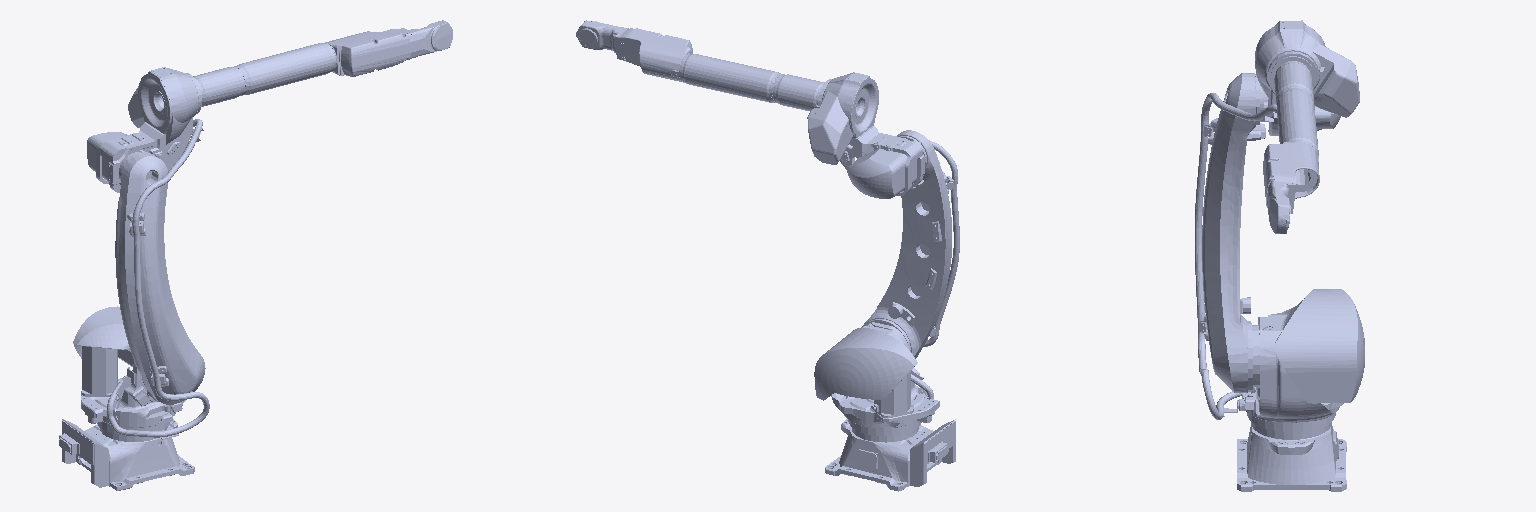
URDF robot description (as1):
<?xml version="1.0" encoding="utf-8"?>
<!-- This URDF was automatically created by SolidWorks to URDF Exporter! Originally created by [author] ([email redacted]) 
     Commit Version: 1.6.0-4-g7f85cfe  Build Version: 1.6.7995.38578
     For more information, please see http://wiki.ros.org/sw_urdf_exporter -->
<robot
  name="as1">
  <link
    name="base_link">
    <inertial>
      <origin
        xyz="-0.0233673684020749 0.00375946264305613 -0.105963322965588"
        rpy="0 0 0" />
      <mass
        value="5.21419137667796" />
      <inertia
        ixx="0.0598529347517588"
        ixy="0.00107694936404555"
        ixz="0.00436850451811629"
        iyy="0.0817267703320559"
        iyz="0.000263568538641487"
        izz="0.1120238626061" />
    </inertial>
    <visual>
      <origin
        xyz="0 0 0"
        rpy="0 0 0" />
      <geometry>
        <mesh
          filename="package://as1/meshes/base_link.STL" />
      </geometry>
      <material
        name="">
        <color
          rgba="0.792156862745098 0.819607843137255 0.933333333333333 1" />
      </material>
    </visual>
    <collision>
      <origin
        xyz="0 0 0"
        rpy="0 0 0" />
      <geometry>
        <mesh
          filename="package://as1/meshes/base_link.STL" />
      </geometry>
    </collision>
  </link>
  <link
    name="link_1">
    <inertial>
      <origin
        xyz="0.0104492747595369 0.0238190656714165 0.126003219412791"
        rpy="0 0 0" />
      <mass
        value="18.9644281612299" />
      <inertia
        ixx="0.334615058691766"
        ixy="0.0272075098638983"
        ixz="-0.0126072885949166"
        iyy="0.345495178002126"
        iyz="-0.0410445221132301"
        izz="0.30546212847528" />
    </inertial>
    <visual>
      <origin
        xyz="0 0 0"
        rpy="0 0 0" />
      <geometry>
        <mesh
          filename="package://as1/meshes/link_1.STL" />
      </geometry>
      <material
        name="">
        <color
          rgba="0.792156862745098 0.819607843137255 0.933333333333333 1" />
      </material>
    </visual>
    <collision>
      <origin
        xyz="0 0 0"
        rpy="0 0 0" />
      <geometry>
        <mesh
          filename="package://as1/meshes/link_1.STL" />
      </geometry>
    </collision>
  </link>
  <joint
    name="joint1"
    type="revolute">
    <origin
      xyz="0 0 0"
      rpy="0 0 0" />
    <parent
      link="base_link" />
    <child
      link="link_1" />
    <axis
      xyz="0 0 -1" />
    <limit
      lower="-3.1416"
      upper="3.1416"
      effort="100"
      velocity="2" />
  </joint>
  <link
    name="link_2">
    <inertial>
      <origin
        xyz="-0.0923614117299397 -0.0808864455716424 0.344791779973973"
        rpy="0 0 0" />
      <mass
        value="20.7425365417751" />
      <inertia
        ixx="1.87563964620917"
        ixy="-0.0179379854284755"
        ixz="0.290357094787437"
        iyy="1.96341576264713"
        iyz="-0.0268209589565669"
        izz="0.169078492834354" />
    </inertial>
    <visual>
      <origin
        xyz="0 0 0"
        rpy="0 0 0" />
      <geometry>
        <mesh
          filename="package://as1/meshes/link_2.STL" />
      </geometry>
      <material
        name="">
        <color
          rgba="0.792156862745098 0.819607843137255 0.933333333333333 1" />
      </material>
    </visual>
    <collision>
      <origin
        xyz="0 0 0"
        rpy="0 0 0" />
      <geometry>
        <mesh
          filename="package://as1/meshes/link_2.STL" />
      </geometry>
    </collision>
  </link>
  <joint
    name="joint2"
    type="revolute">
    <origin
      xyz="0.078984 -0.10635 0.21973"
      rpy="0 0 0" />
    <parent
      link="link_1" />
    <child
      link="link_2" />
    <axis
      xyz="0 -1 0" />
    <limit
      lower="-1.5708"
      upper="1.5708"
      effort="100"
      velocity="2" />
  </joint>
  <link
    name="link_3">
    <inertial>
      <origin
        xyz="0.136575788044544 0.117268659899779 0.113378625216662"
        rpy="0 0 0" />
      <mass
        value="13.4512374849002" />
      <inertia
        ixx="0.224055463288954"
        ixy="-0.0121850892901722"
        ixz="-0.0956286765812692"
        iyy="0.275927612709498"
        iyz="-0.00527745613866116"
        izz="0.215613728805979" />
    </inertial>
    <visual>
      <origin
        xyz="0 0 0"
        rpy="0 0 0" />
      <geometry>
        <mesh
          filename="package://as1/meshes/link_3.STL" />
      </geometry>
      <material
        name="">
        <color
          rgba="0.792156862745098 0.819607843137255 0.933333333333333 1" />
      </material>
    </visual>
    <collision>
      <origin
        xyz="0 0 0"
        rpy="0 0 0" />
      <geometry>
        <mesh
          filename="package://as1/meshes/link_3.STL" />
      </geometry>
    </collision>
  </link>
  <joint
    name="joint3"
    type="revolute">
    <origin
      xyz="-0.11596 0.020379 0.83207"
      rpy="0 0 0" />
    <parent
      link="link_2" />
    <child
      link="link_3" />
    <axis
      xyz="0 -1 0" />
    <limit
      lower="-1.5708"
      upper="1.5708"
      effort="100"
      velocity="2" />
  </joint>
  <link
    name="link_4">
    <inertial>
      <origin
        xyz="0.501134425880994 -0.00428964990754252 0.00155670376564077"
        rpy="0 0 0" />
      <mass
        value="11.2572274332167" />
      <inertia
        ixx="0.0277470668766059"
        ixy="0.0505294926419451"
        ixz="-0.00742649894191705"
        iyy="0.935689886130332"
        iyz="0.000673138359578124"
        izz="0.941813414197717" />
    </inertial>
    <visual>
      <origin
        xyz="0 0 0"
        rpy="0 0 0" />
      <geometry>
        <mesh
          filename="package://as1/meshes/link_4.STL" />
      </geometry>
      <material
        name="">
        <color
          rgba="0.792156862745098 0.819607843137255 0.933333333333333 1" />
      </material>
    </visual>
    <collision>
      <origin
        xyz="0 0 0"
        rpy="0 0 0" />
      <geometry>
        <mesh
          filename="package://as1/meshes/link_4.STL" />
      </geometry>
    </collision>
  </link>
  <joint
    name="joint4"
    type="revolute">
    <origin
      xyz="0.29158 0.090386 0.21469"
      rpy="0 0 0" />
    <parent
      link="link_3" />
    <child
      link="link_4" />
    <axis
      xyz="1 0 0" />
    <limit
      lower="-3.1416"
      upper="3.1416"
      effort="100"
      velocity="2" />
  </joint>
  <link
    name="end_link">
    <inertial>
      <origin
        xyz="0.2259771378748 0.0624580233555173 0.0448242124362421"
        rpy="0 0 0" />
      <mass
        value="1.76534714271895" />
      <inertia
        ixx="0.00281408448832343"
        ixy="-0.000215380883179021"
        ixz="-7.8042969186613E-05"
        iyy="0.00298968198332777"
        iyz="-3.36562530876571E-05"
        izz="0.00266081663711982" />
    </inertial>
    <visual>
      <origin
        xyz="0 0 0"
        rpy="0 0 0" />
      <geometry>
        <mesh
          filename="package://as1/meshes/end_link.STL" />
      </geometry>
      <material
        name="">
        <color
          rgba="0.792156862745098 0.819607843137255 0.933333333333333 1" />
      </material>
    </visual>
    <collision>
      <origin
        xyz="0 0 0"
        rpy="0 0 0" />
      <geometry>
        <mesh
          filename="package://as1/meshes/end_link.STL" />
      </geometry>
    </collision>
  </link>
  <joint
    name="end_joint"
    type="revolute">
    <origin
      xyz="1.0455 -0.007287 0.0040489"
      rpy="0 0 0" />
    <parent
      link="link_4" />
    <child
      link="end_link" />
    <axis
      xyz="0 1 0" />
    <limit
      lower="-1.5708"
      upper="1.5708"
      effort="100"
      velocity="2" />
  </joint>
</robot>

--- Facts derived from the render (not from the file) ---
3 views of the same robot in one strip: view 1: azimuth 30°, elevation 25°; view 2: azimuth 150°, elevation 25°; view 3: azimuth 270°, elevation 25° (orthographic).
Model as1 with 6 links and 5 joints (5 revolute), rooted at base_link, posed every joint at zero.
Visible links, largest first — view 1: link_2, link_4, link_1, link_3, base_link; view 2: link_2, link_1, link_3, link_4, base_link; view 3: link_2, link_1, link_3, link_4, base_link.
Link boxes in pixels (box(x1,y1,x2,y2)): link_2: box(115, 152, 205, 404); link_4: box(193, 20, 452, 106); link_1: box(73, 306, 209, 441); link_3: box(87, 67, 203, 192); base_link: box(59, 388, 194, 490); link_2: box(862, 130, 959, 358); link_1: box(814, 322, 939, 442); link_3: box(807, 72, 924, 198); link_4: box(576, 20, 824, 110); base_link: box(825, 419, 955, 491); link_2: box(1195, 73, 1268, 392); link_1: box(1201, 289, 1364, 439); link_3: box(1212, 20, 1359, 135); link_4: box(1263, 61, 1319, 233); base_link: box(1237, 425, 1346, 491).
Bounding box of the posed robot: 1.63 × 0.5358 × 1.59 m (x, y, z).
Meshes: 6 distinct files referenced, 5 mesh visuals loaded (5 binary STL); not drawn: 1 (reference not matched to a file when rendering).